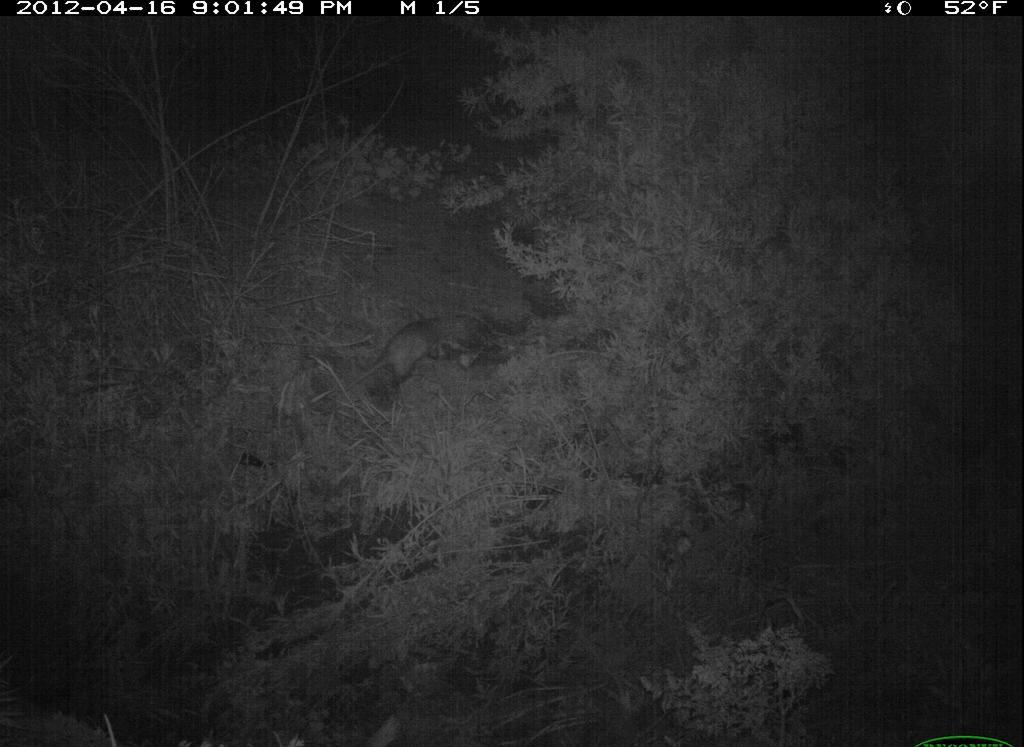opossum: (332, 290, 522, 407)
